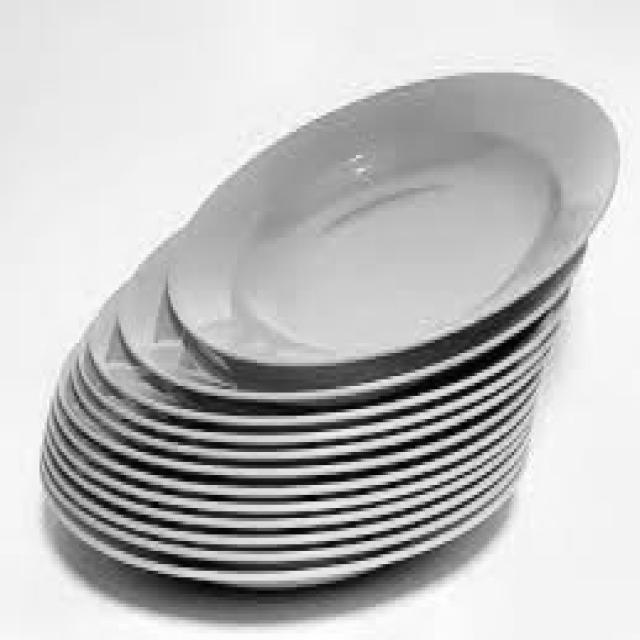dish: (26, 19, 630, 622)
